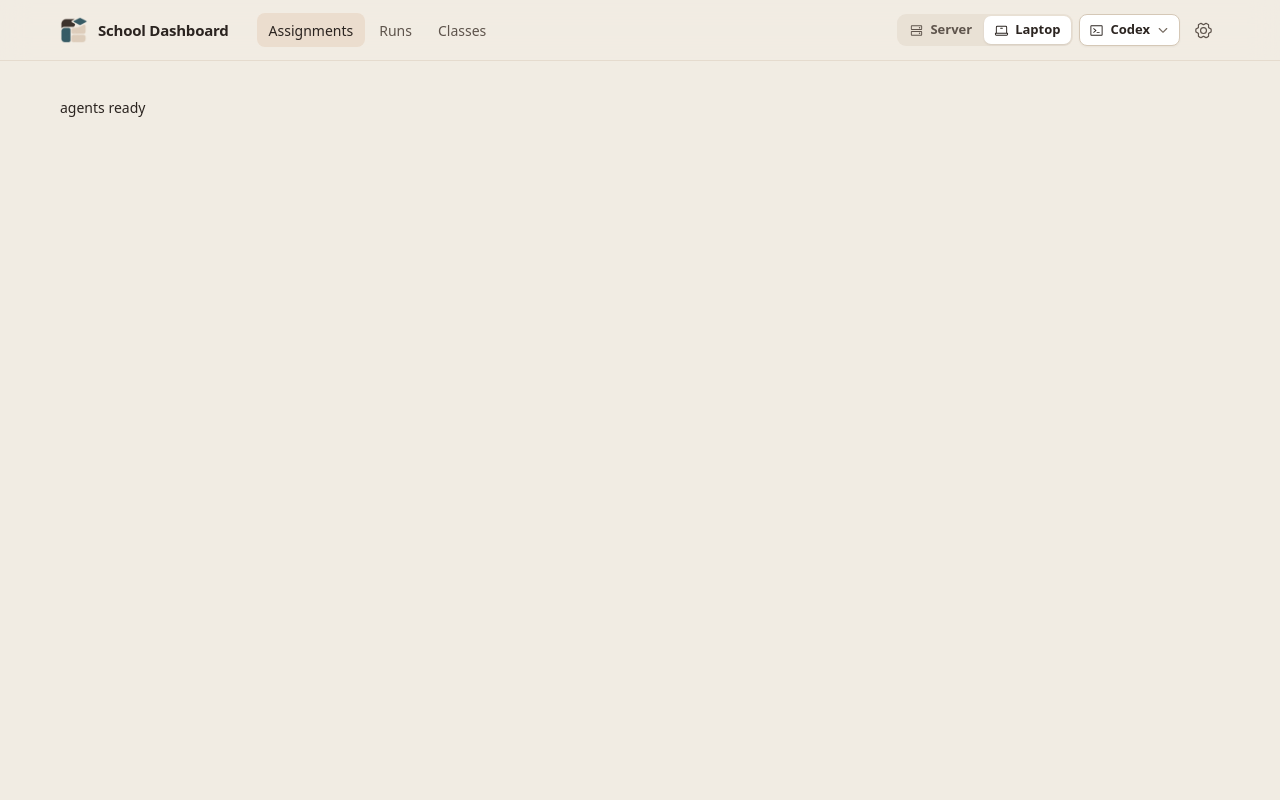
Scenario: AppShell agent availability › switches new agent runs between the server and the laptop
Click the button with aria-label "Agent settings". click: click(1129, 30)
box: [1078,14,1180,46]
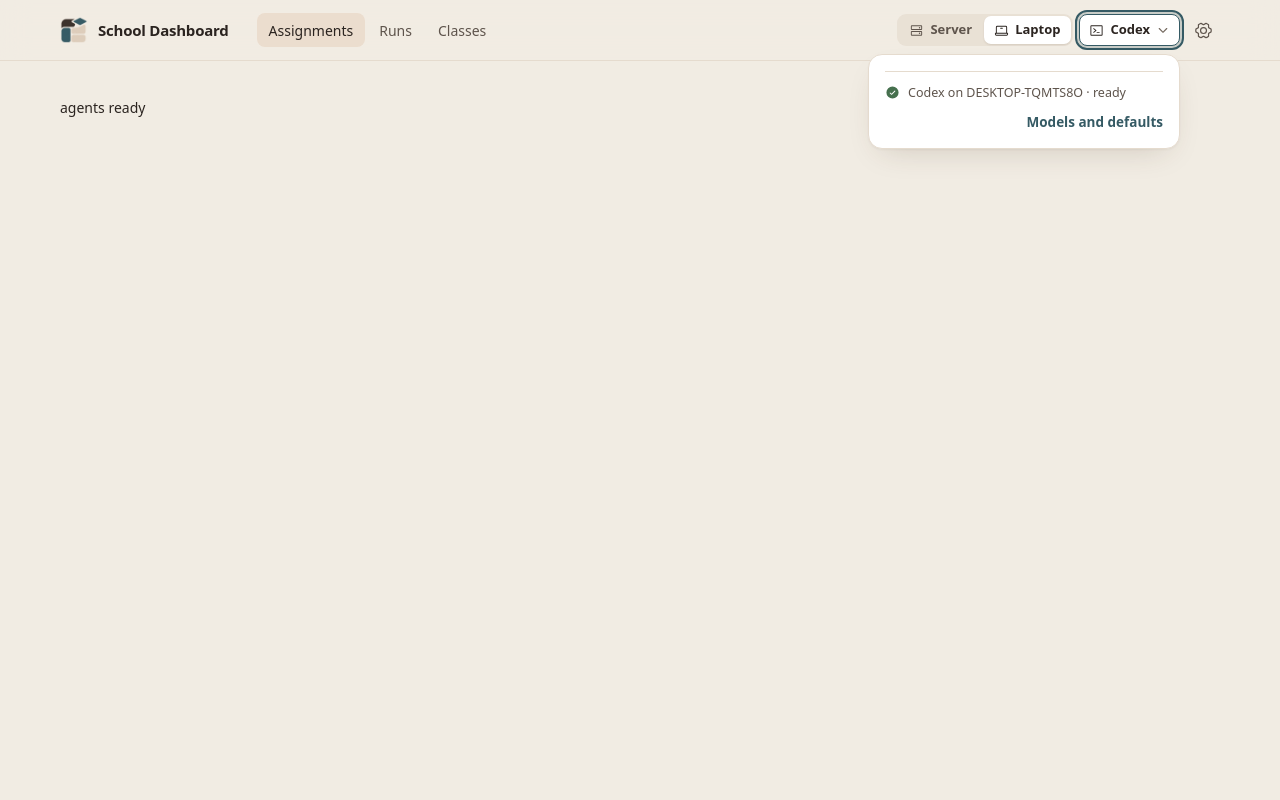
Expected: the text "Codex on DESKTOP-TQMTS8O · ready" is shown, [908,84,1126,102]
Click the button "Server". click: click(941, 30)
box: [899,16,982,44]
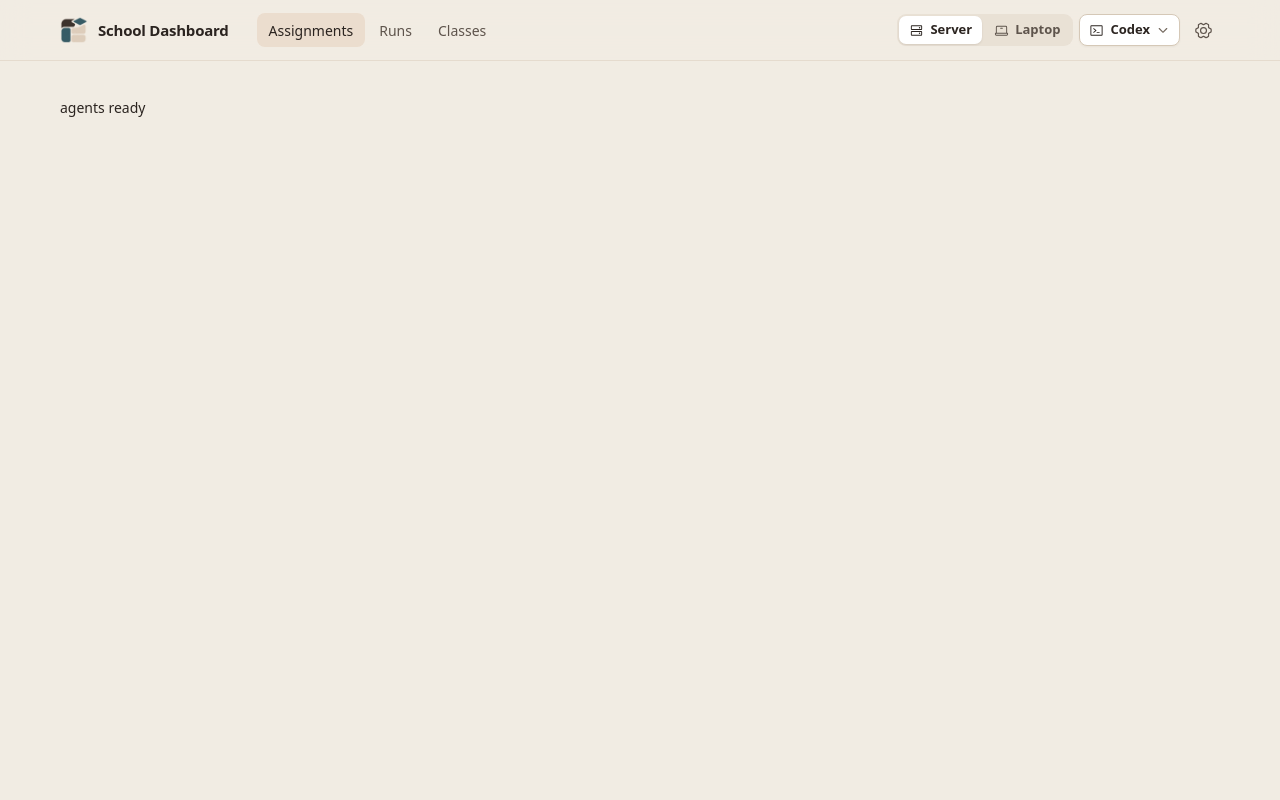
Expected: the button "Server" is pressed, [899,16,982,44]
Click the button with aria-label "Agent settings". click: click(1129, 30)
box: [1078,14,1180,46]
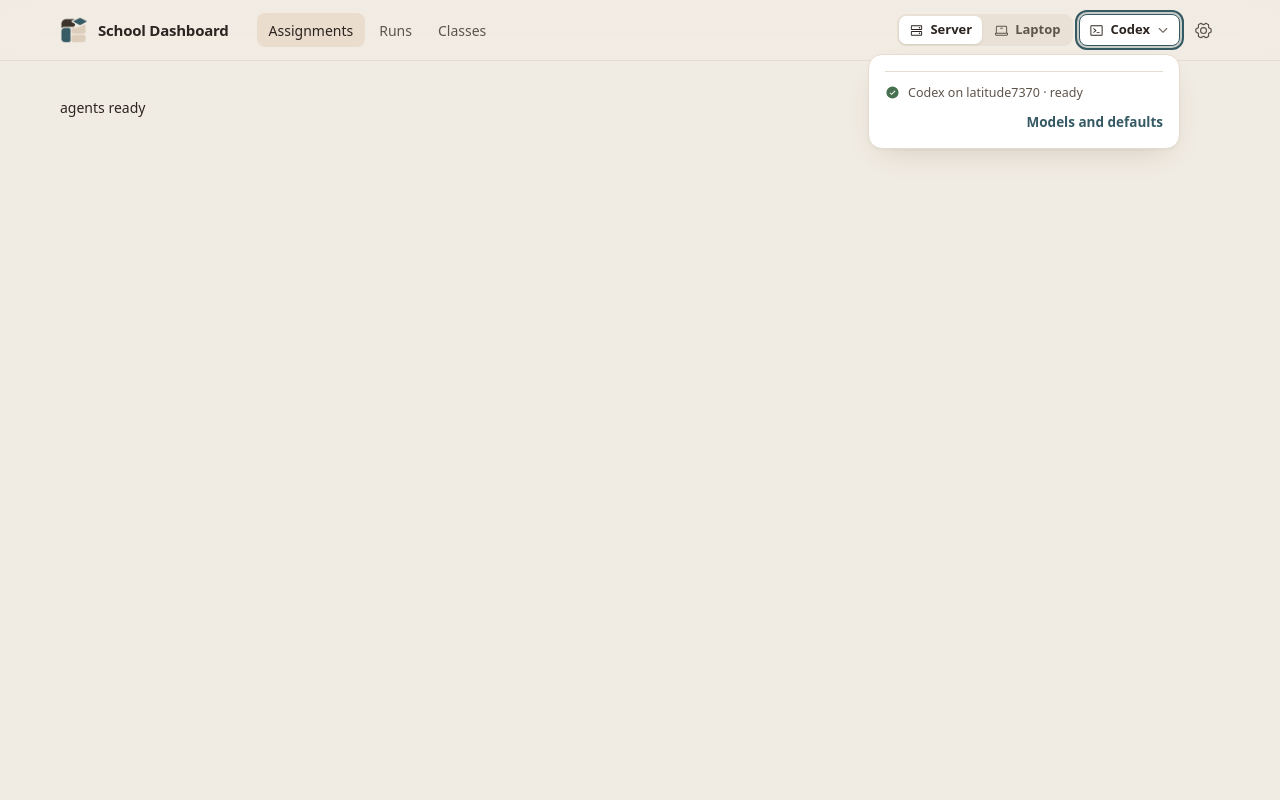
Expected: the text "Codex on latitude7370 · ready" is shown, [908,84,1083,102]
